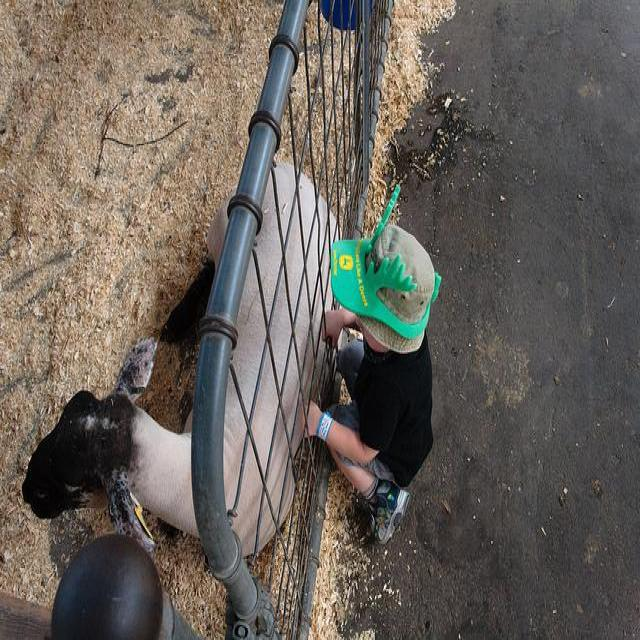Sheep: (23, 166, 343, 559)
